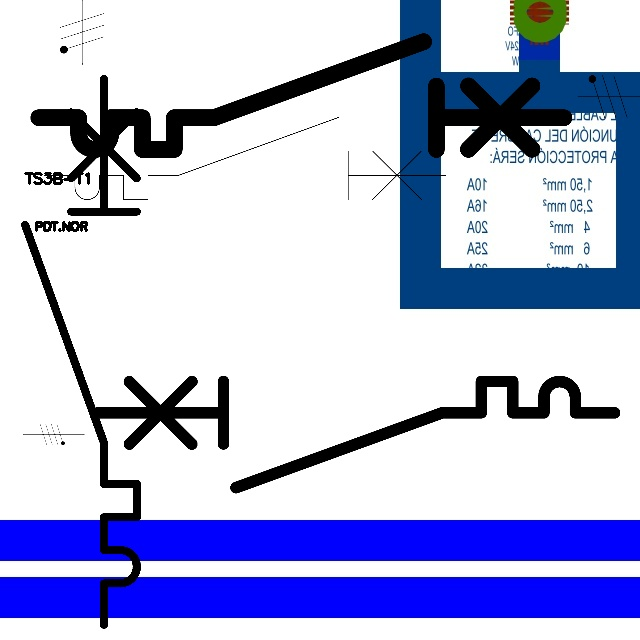interruptor_termomagnetico: (11, 64, 151, 638), (25, 28, 577, 163), (84, 368, 627, 501), (34, 107, 456, 210)
